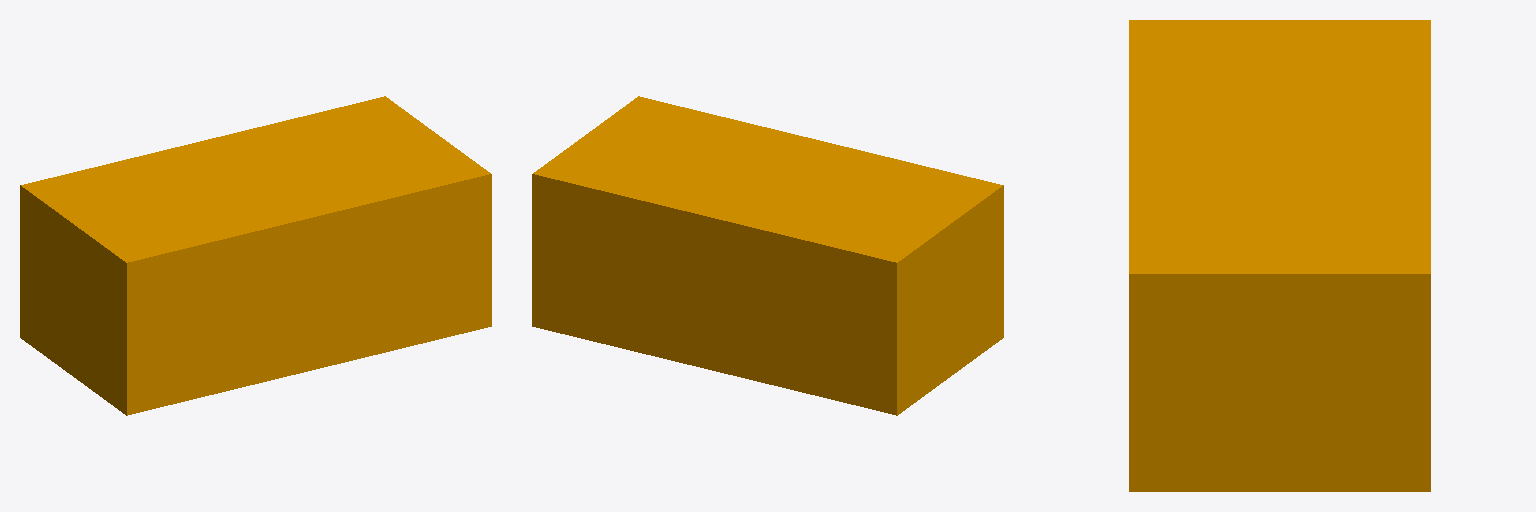
URDF robot description (2x2):
<?xml version='1.0' encoding='UTF-8'?>
<robot name="2x2">
  <link name="base_link">
    <inertial>
      <origin xyz="0.0 0.0 0.0" rpy="0.0 0.0 0.0"/>
      <mass value="0.01"/>
      <inertia ixx="0.1" ixy="0.0" ixz="0.0" iyy="0.1" iyz="0.0" izz="0.1"/>
    </inertial>
    <visual>
      <geometry>
        <box size="       0.03      0.0151       0.012"/>
      </geometry>
      <material name=""/>
      <origin xyz="0.0 0.0 0.0" rpy="0.0 0.0 0.0"/>
    </visual>
    <collision>
      <geometry>
        <box size="       0.03      0.0151       0.012"/>
      </geometry>
      <origin xyz="0.0 0.0 0.0" rpy="0.0 0.0 0.0"/>
    </collision>
  </link>
  <material name="">
    <color rgba="          1           1           1           1"/>
  </material>
  <contact>
    <lateral_friction value="1.0"/>
    <rolling_friction value="0.0"/>
    <contact_cfm value="0.0"/>
    <contact_erp value="1.0"/>
  </contact>
</robot>

--- What the picture shows (computed from the rendered views, not written in the file) ---
3 views of the same robot in one strip: view 1: azimuth 30°, elevation 25°; view 2: azimuth 150°, elevation 25°; view 3: azimuth 270°, elevation 25° (orthographic).
Model 2x2 with 1 links and 0 joints (none), rooted at base_link, posed every joint at zero.
Links seen in each view (by area): view 1: base_link; view 2: base_link; view 3: base_link.
Link boxes in pixels (left/top/right/bottom): base_link: left=20, top=96, right=491, bottom=415; base_link: left=532, top=96, right=1003, bottom=415; base_link: left=1129, top=20, right=1430, bottom=491.
Size in the robot's own frame: 0.03 by 0.0151 by 0.012 metres.
Geometry: primitives only (box / cylinder / sphere), no mesh files.